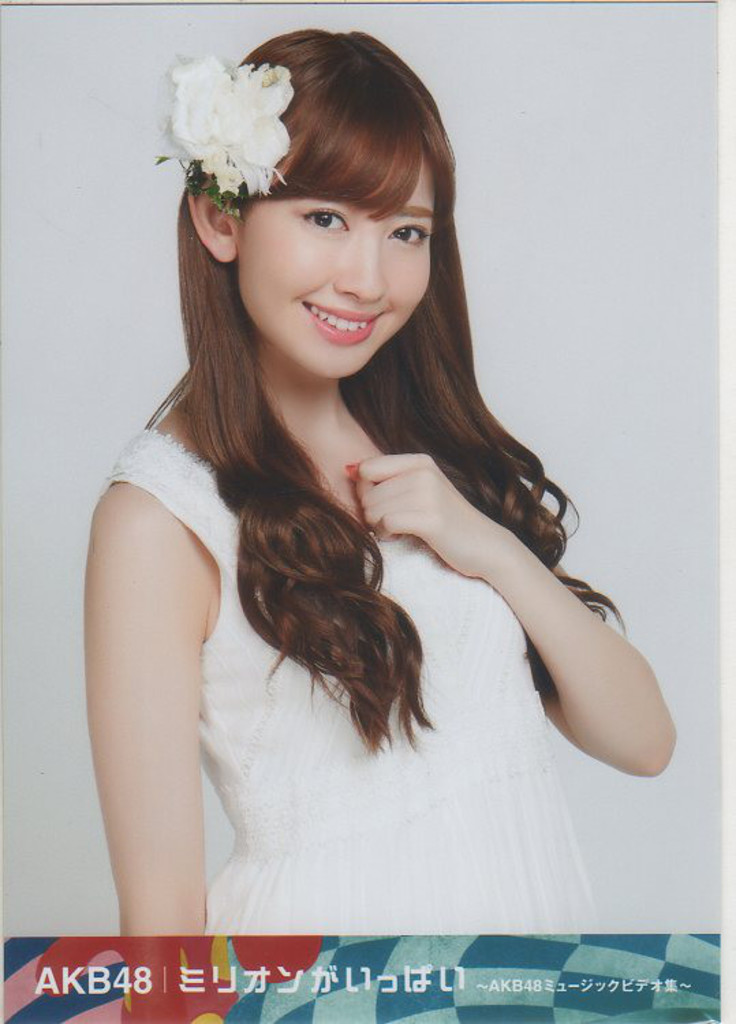Human-face: (244, 154, 440, 385)
